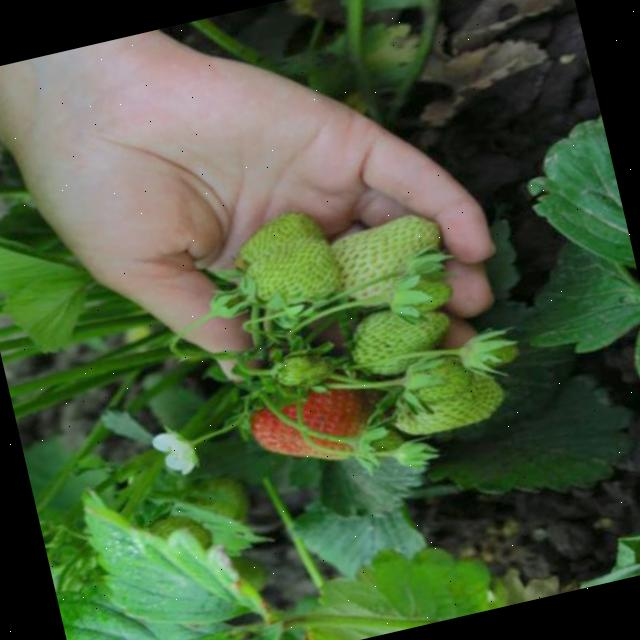strawberry: (242, 372, 373, 478), (322, 210, 452, 312), (381, 343, 511, 442), (344, 298, 460, 382), (231, 236, 340, 318), (231, 207, 327, 264), (455, 326, 522, 375), (386, 274, 454, 319)
